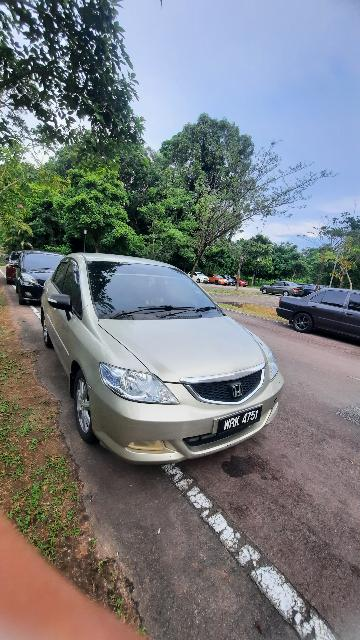License_Plate: (212, 406, 273, 438)
car: (41, 250, 294, 470)
